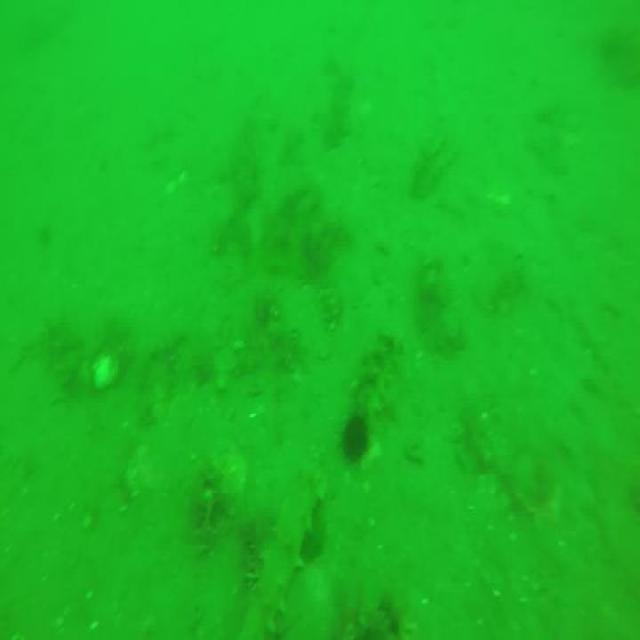echinus: (341, 418, 369, 464)
holothurian: (244, 469, 324, 640)
scallop: (90, 352, 118, 390)
